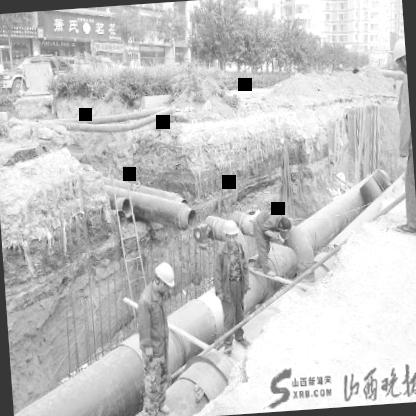helmet: (151, 258, 178, 296), (219, 221, 242, 252), (389, 35, 407, 74)
